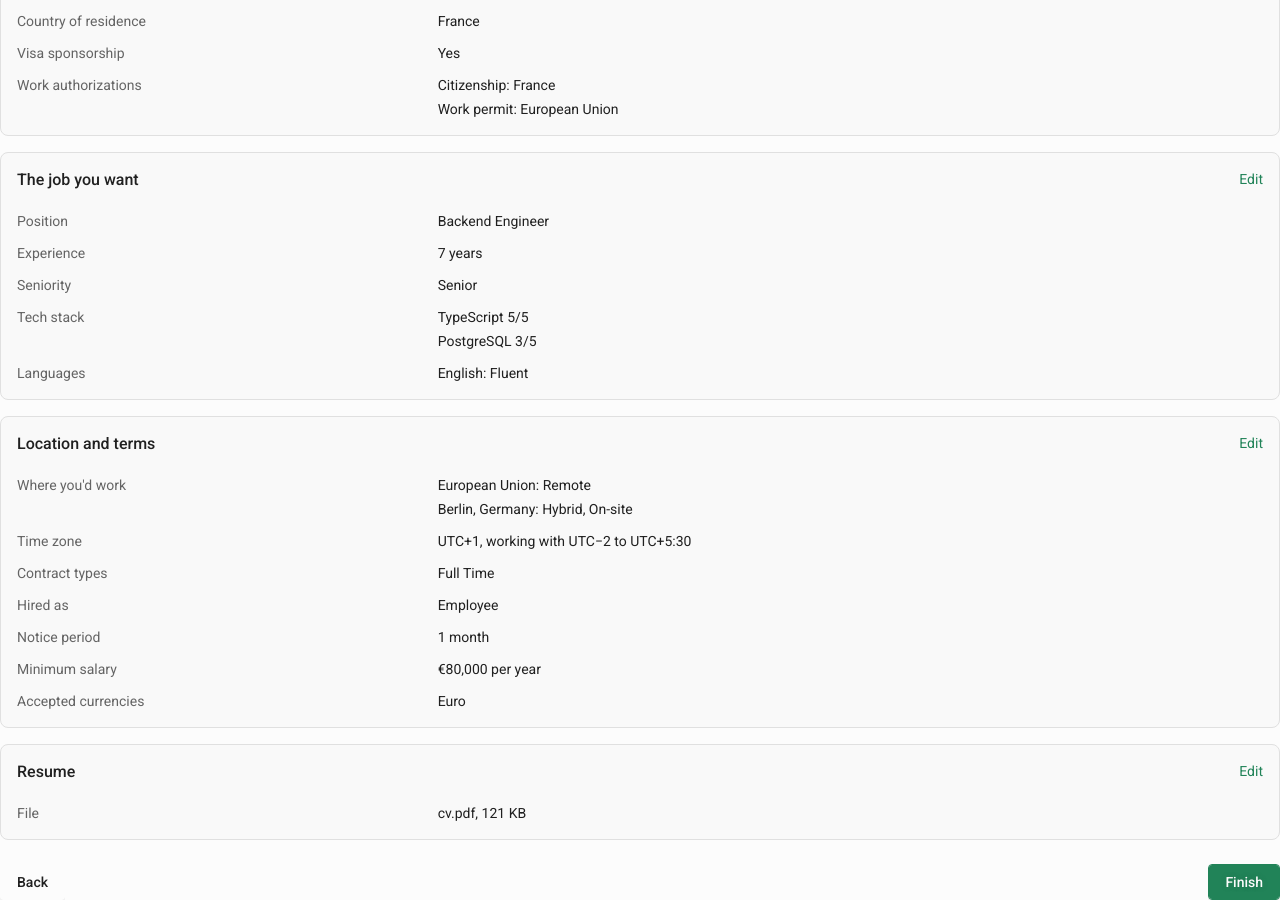
Test: Review › a rejected publish request shows the failure message and Finish works again
The image size is (1280, 900).
(page scrolled)
Click the button "Finish".
click(1244, 882)  # box [1208,864,1279,899]
(page scrolled)
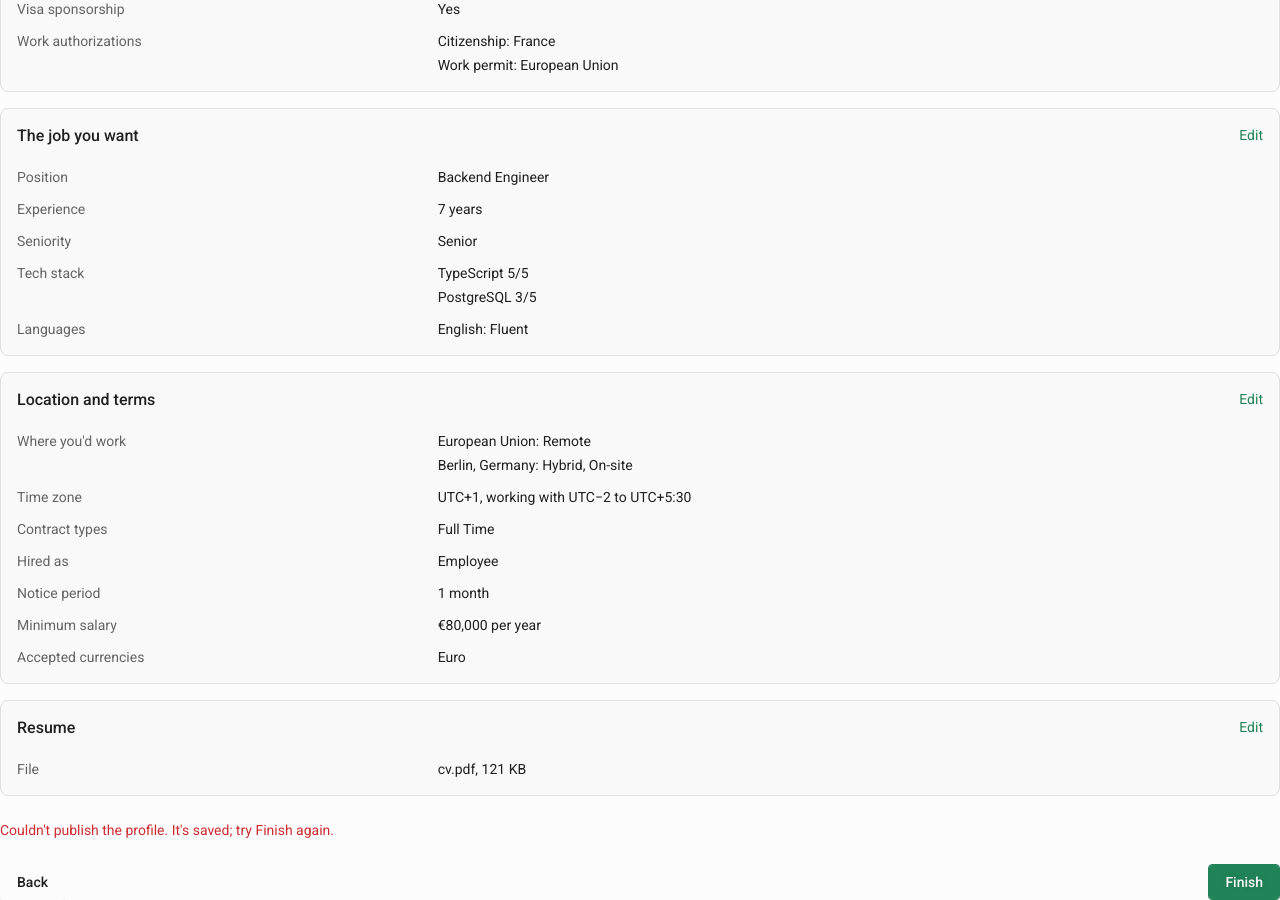
Check: the message reads "Couldn't publish the profile. It's saved; try Finish again.", box [0,822,334,838]
